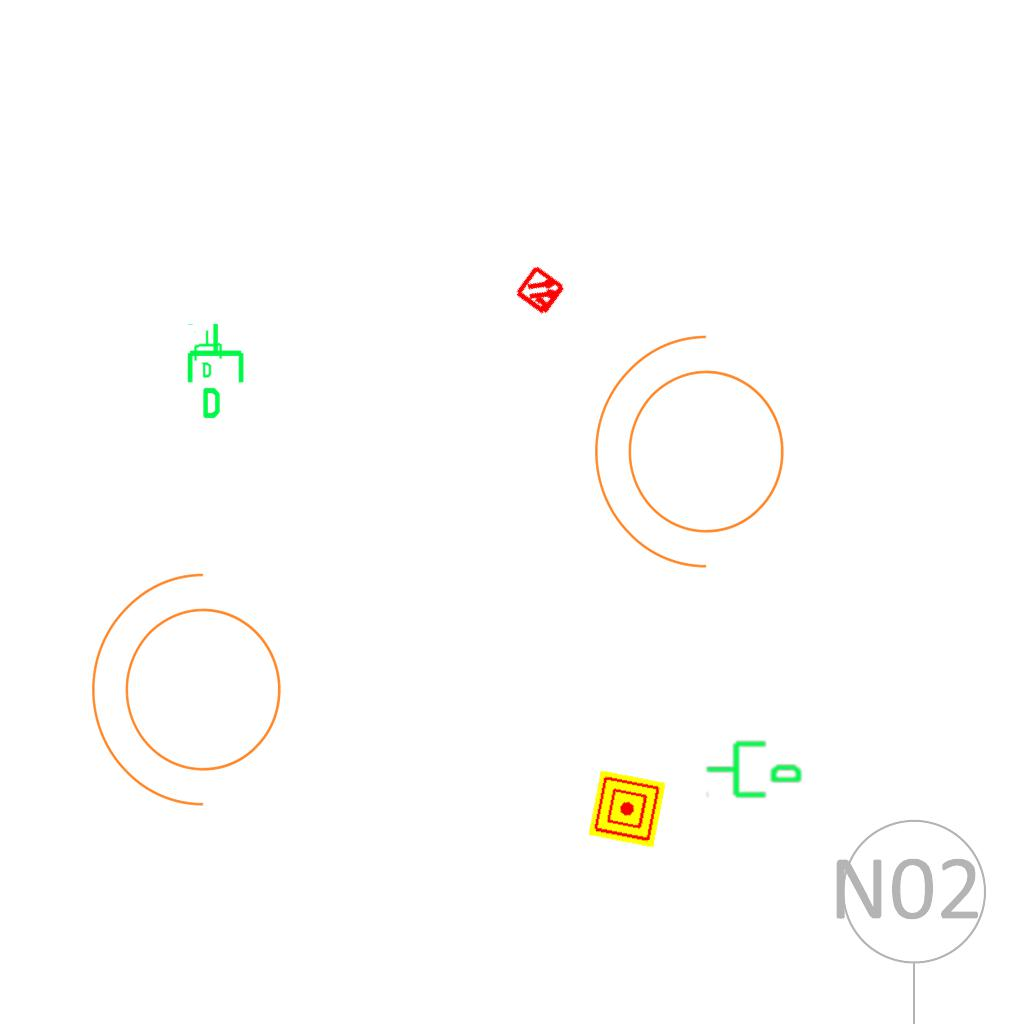Datenanschluss_einfach: (704, 733, 804, 802), (183, 321, 252, 421), (190, 328, 228, 380)
NAM-Nichtautomatischer_Melder: (588, 770, 666, 848)
OT_Multisensormelder_(Kombination_RMO_WMD): (501, 251, 581, 331)
Scheinwerfer_fuer_Alarmbeleuchtung: (81, 564, 306, 828), (584, 326, 809, 590)
